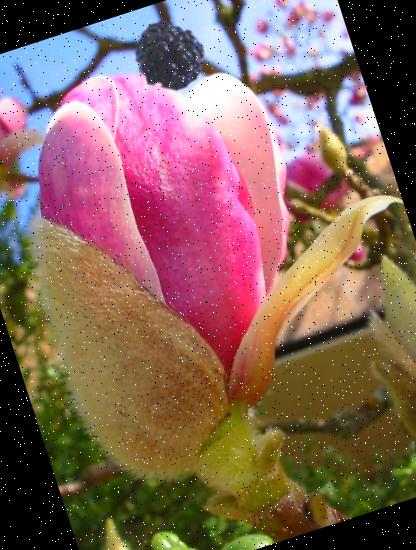Mulberry: (115, 0, 237, 108)
